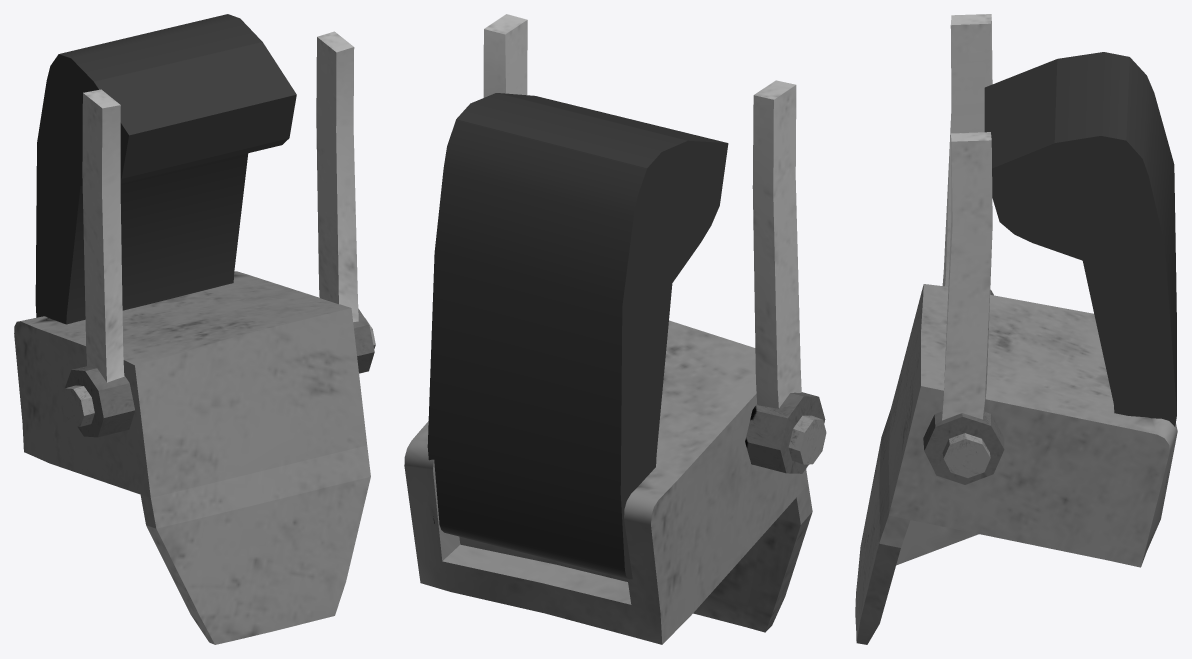
File: jxb_2.fbx
The picture shows the model from 3 angles, left to right: view 1: azimuth 30°, elevation 25°; view 2: azimuth 150°, elevation 25°; view 3: azimuth 270°, elevation 25°; orthographic projection. The views are drawn at different scales.
Visible parts, largest first — view 1: polySurface120; view 2: polySurface120; view 3: polySurface120.
Boxes of the visible parts, box(x1,y1,x2,y2) form: polySurface120: box(14, 14, 375, 644); polySurface120: box(404, 14, 826, 644); polySurface120: box(855, 14, 1177, 644).
Bounding box in the file's own units: 0.8653 × 1.48 × 0.8045.
Materials: 1 (1 with a texture image).
